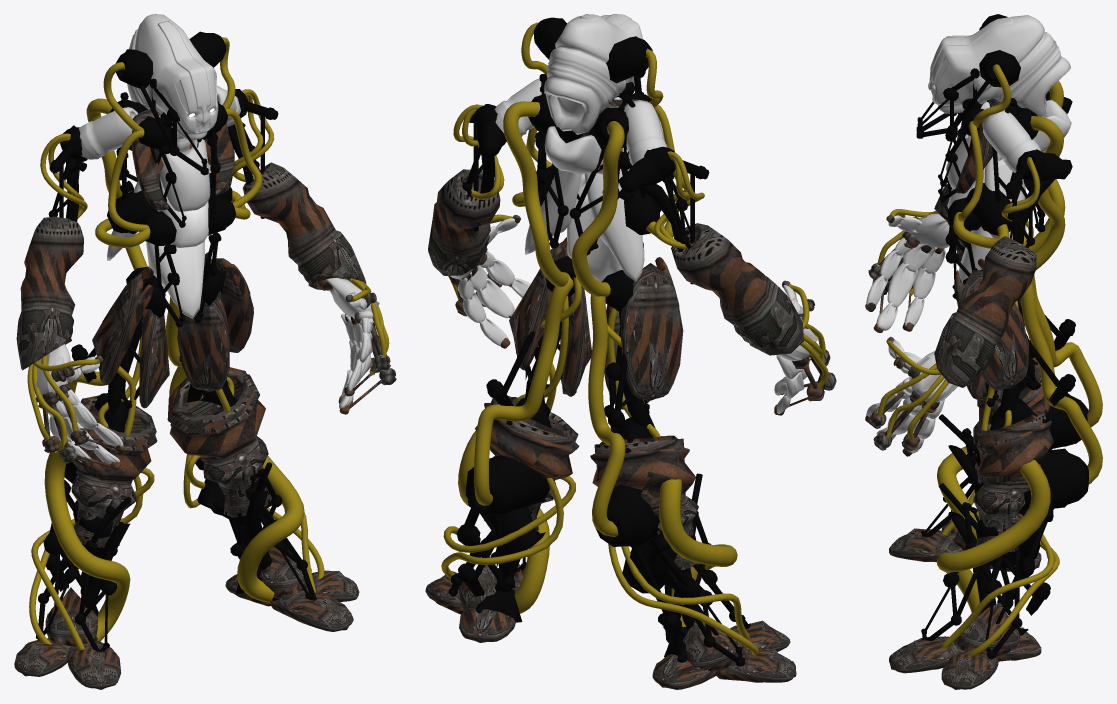
Rendered from robotcand.f71a4701.glb.
3 renders of one model, left to right at view 1: azimuth 30°, elevation 25°; view 2: azimuth 150°, elevation 25°; view 3: azimuth 270°, elevation 25°, orthographic. The views are drawn at different scales.
Visible parts, largest first — view 1: Cube.002; view 2: Cube.002; view 3: Cube.002.
Boxes of the visible parts, box(x1,y1,x2,y2) form: Cube.002: box(14, 14, 396, 689); Cube.002: box(425, 14, 836, 689); Cube.002: box(865, 14, 1102, 689).
Size of the model in its own units: 14.78 by 23.99 by 8.72.
7 materials, 2 textured.
